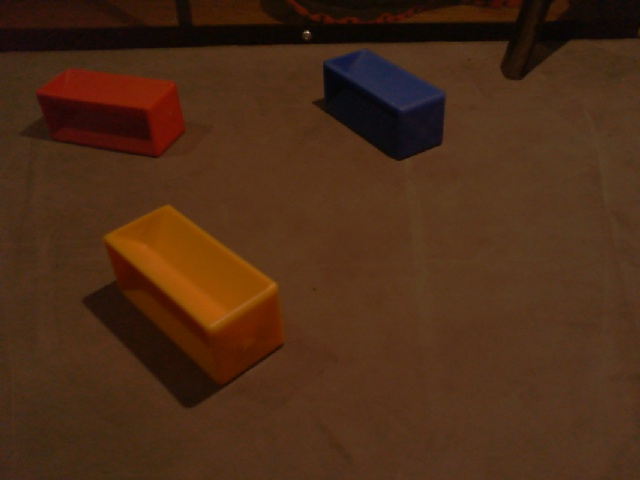BlueSample: (322, 48, 445, 160)
RedSample: (34, 65, 187, 159)
YellowSample: (102, 202, 285, 385)
